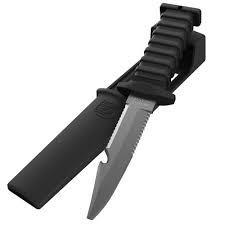knife: (86, 2, 210, 223)
